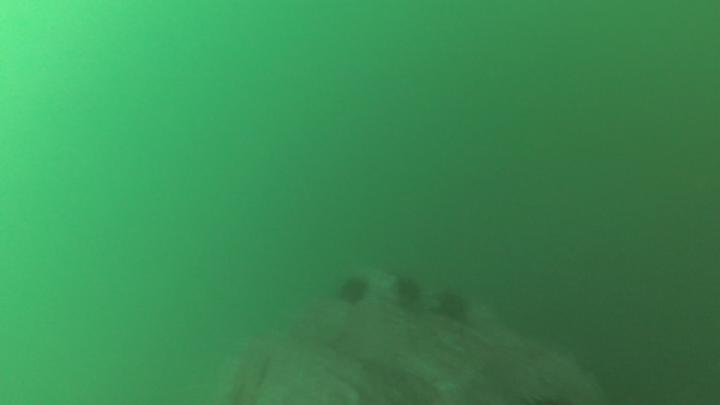echinus: (335, 275, 371, 311), (436, 289, 473, 323), (393, 275, 425, 310)
